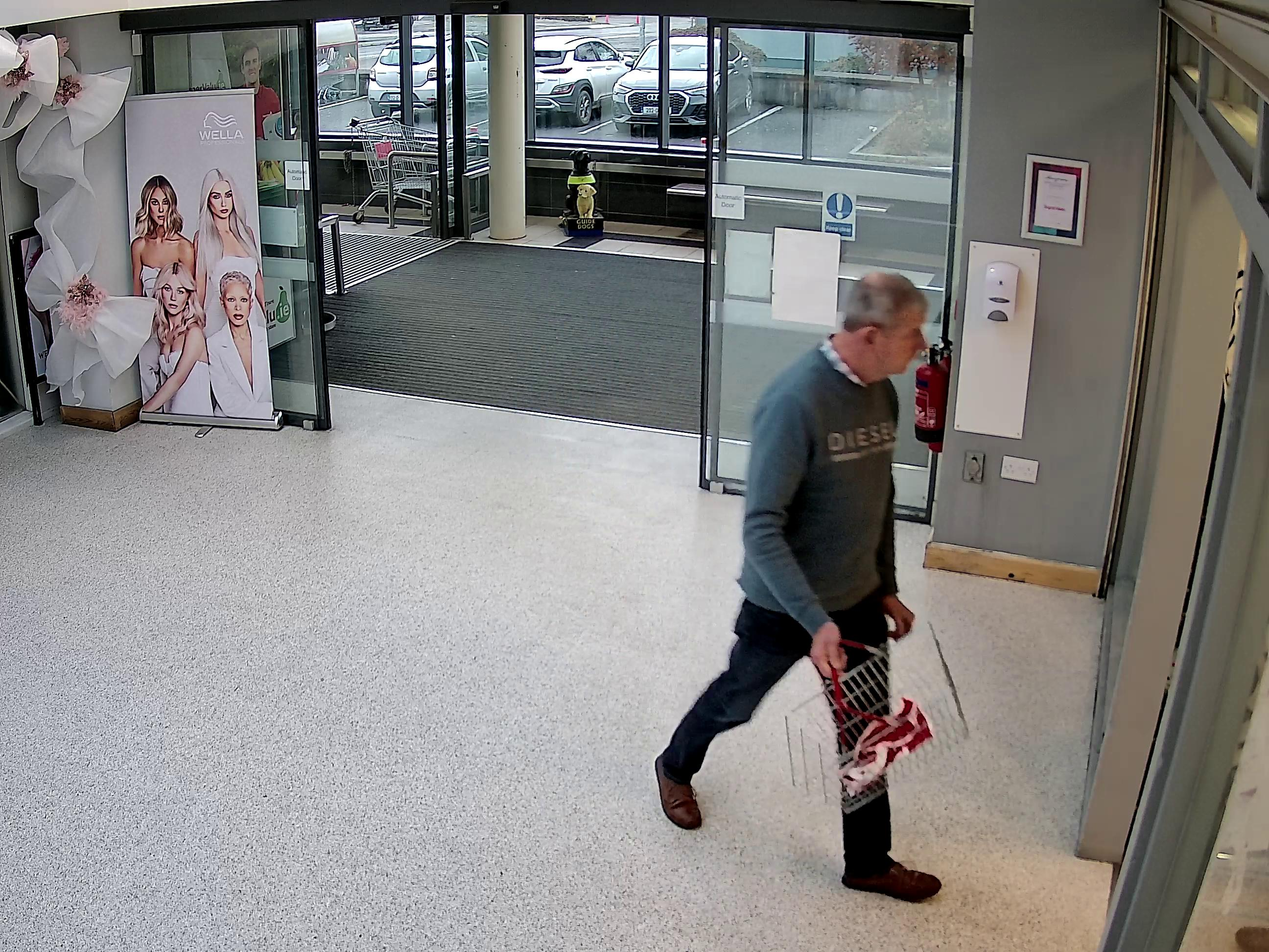empty-basket: (784, 621, 970, 812)
empty-shopping-bags: (840, 701, 932, 791)
person: (657, 265, 941, 902)
person-with-basket-trolly-and-shopping-bag: (657, 265, 973, 901)
